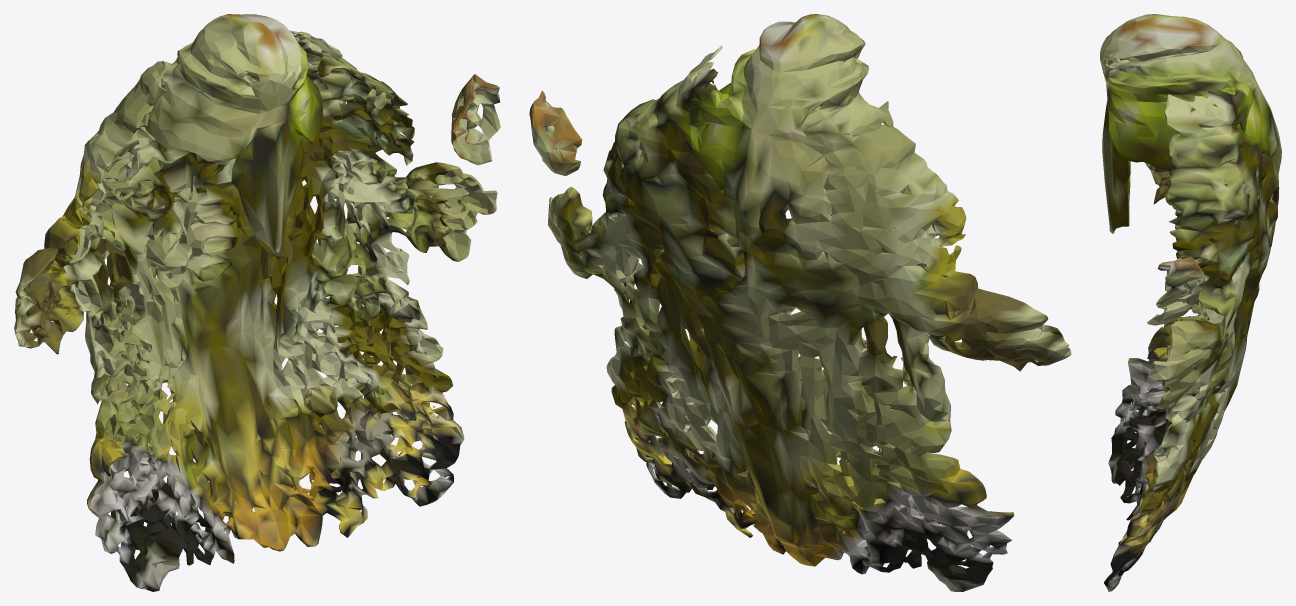
File: hellHound.glb
The picture shows the model from 3 angles, left to right: view 1: azimuth 30°, elevation 25°; view 2: azimuth 150°, elevation 25°; view 3: azimuth 270°, elevation 25°; orthographic projection. The views are drawn at different scales.
Visible parts, largest first — view 1: world; view 2: world; view 3: world.
Boxes of the visible parts, x1,y1,x2,y2 form: world: [14, 14, 500, 591]; world: [529, 14, 1071, 591]; world: [1100, 14, 1281, 591].
Size of the model in its own units: 0.9831 by 1 by 0.3162.
